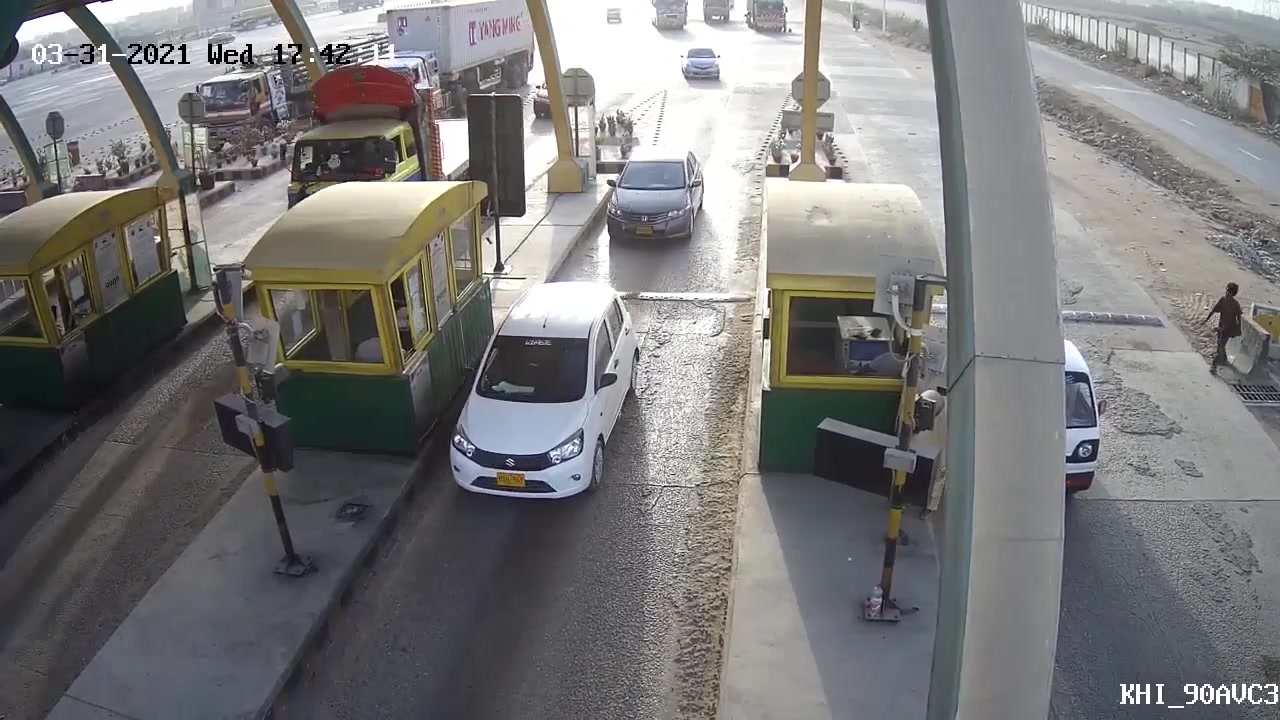F1: (455, 279, 650, 530), (604, 143, 707, 247)
